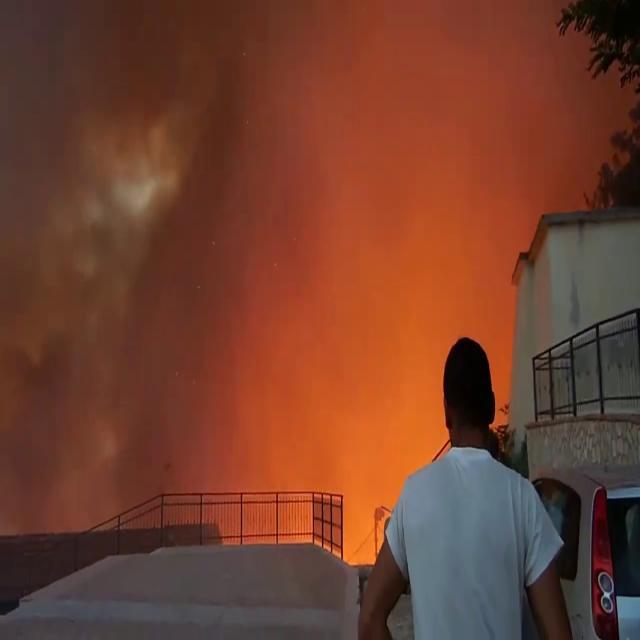Smoke: (0, 1, 520, 528)
